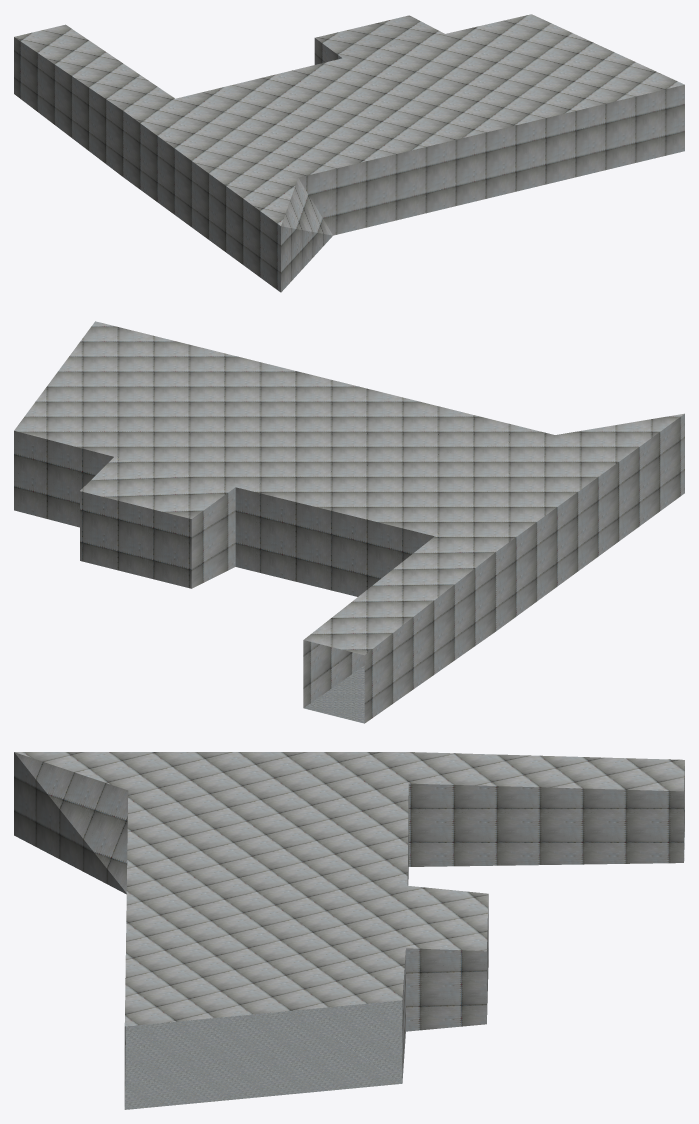
File: south1.FBX
3 renders of one model, top to bottom at view 1: azimuth 30°, elevation 25°; view 2: azimuth 150°, elevation 25°; view 3: azimuth 270°, elevation 25°, orthographic. The views are drawn at different scales.
Parts seen in each view (by area): view 1: South1; view 2: South1; view 3: South1.
Part boxes in pixels (box(x1,y1,x2,y2)): South1: box(14, 14, 684, 292); South1: box(14, 321, 684, 723); South1: box(14, 752, 684, 1109).
Size of the model in its own units: 523 by 74.12 by 540.
Materials: 2 (2 with a texture image).
